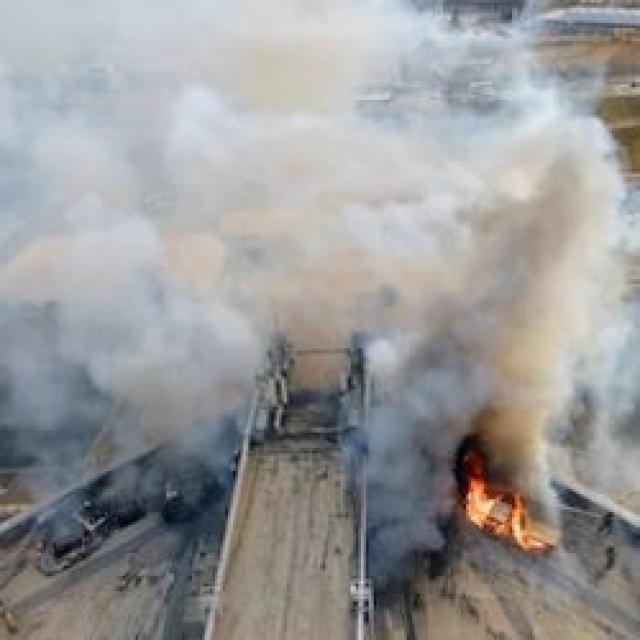Fire: (464, 472, 543, 548)
Smoke: (0, 4, 610, 512)
